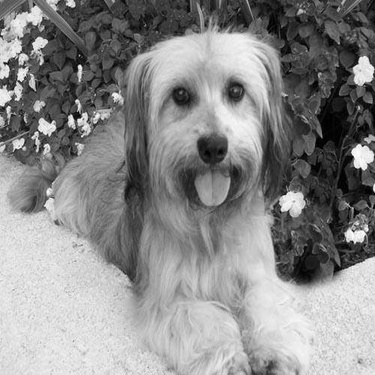dog: (4, 27, 312, 373)
